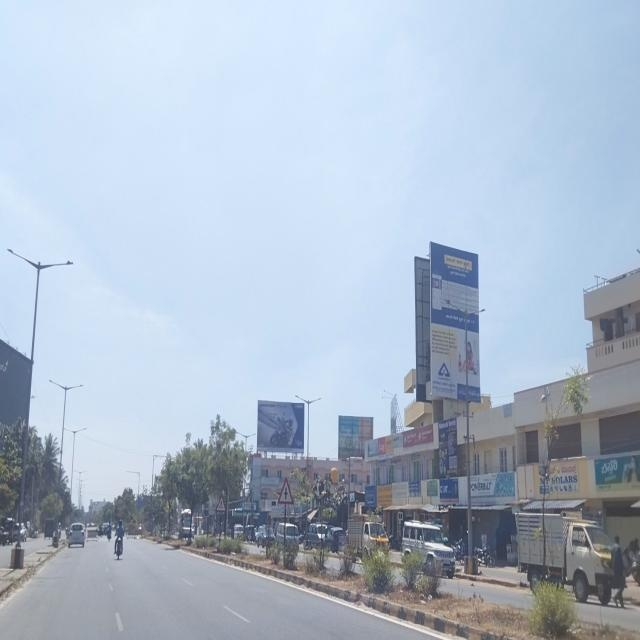bien_nguy_hiem: (278, 476, 294, 505), (215, 494, 226, 513)
